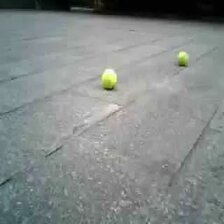tennis: (103, 68, 117, 87), (177, 52, 188, 64)
